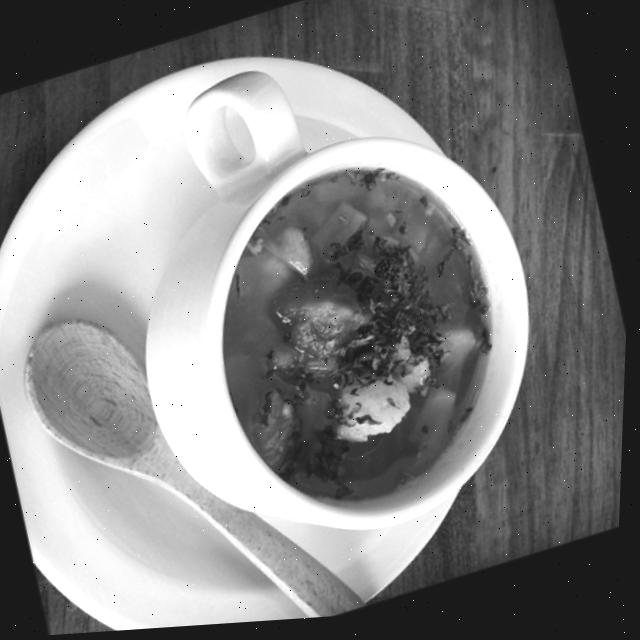米饭主食: (0, 316, 368, 639), (0, 84, 308, 402), (322, 105, 636, 409)
